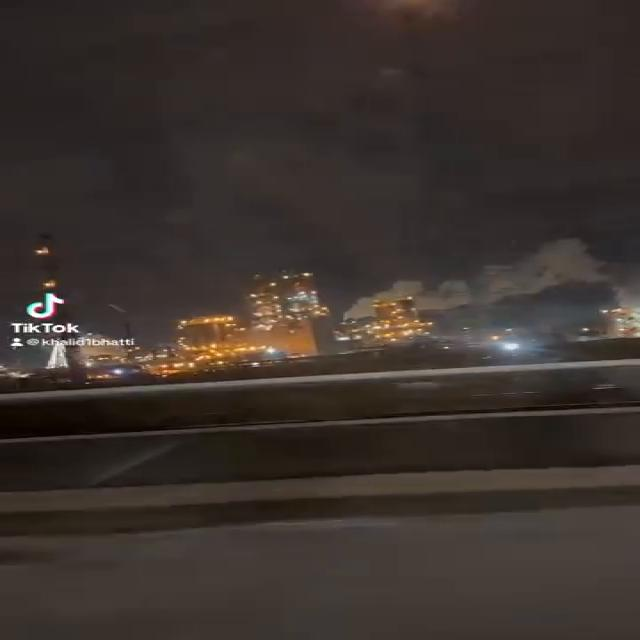smoke: (343, 238, 606, 321)
